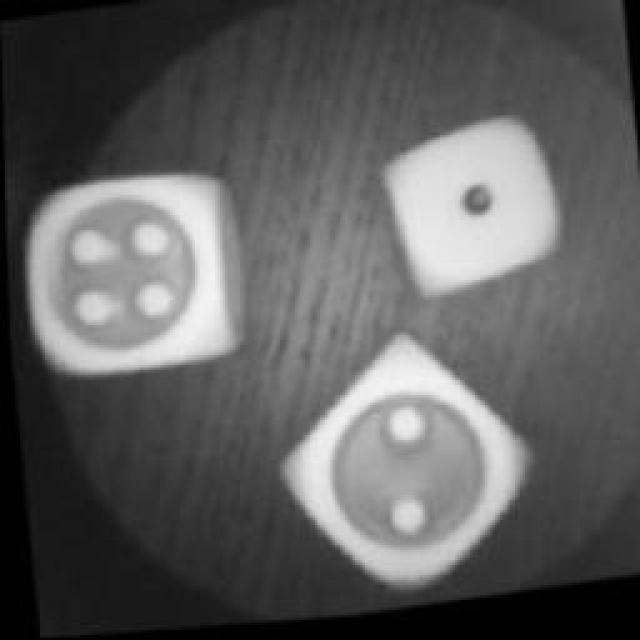dice_1: (370, 110, 562, 310)
dice_2: (282, 334, 528, 611)
dice_4: (14, 159, 244, 391)
